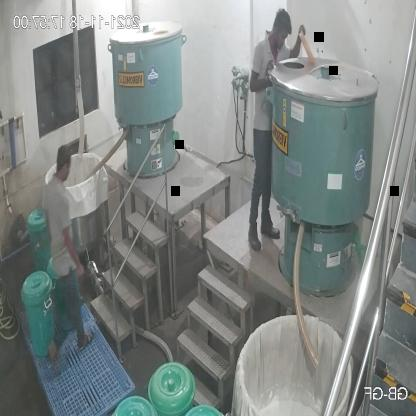no_shoes: (79, 331, 95, 349)
